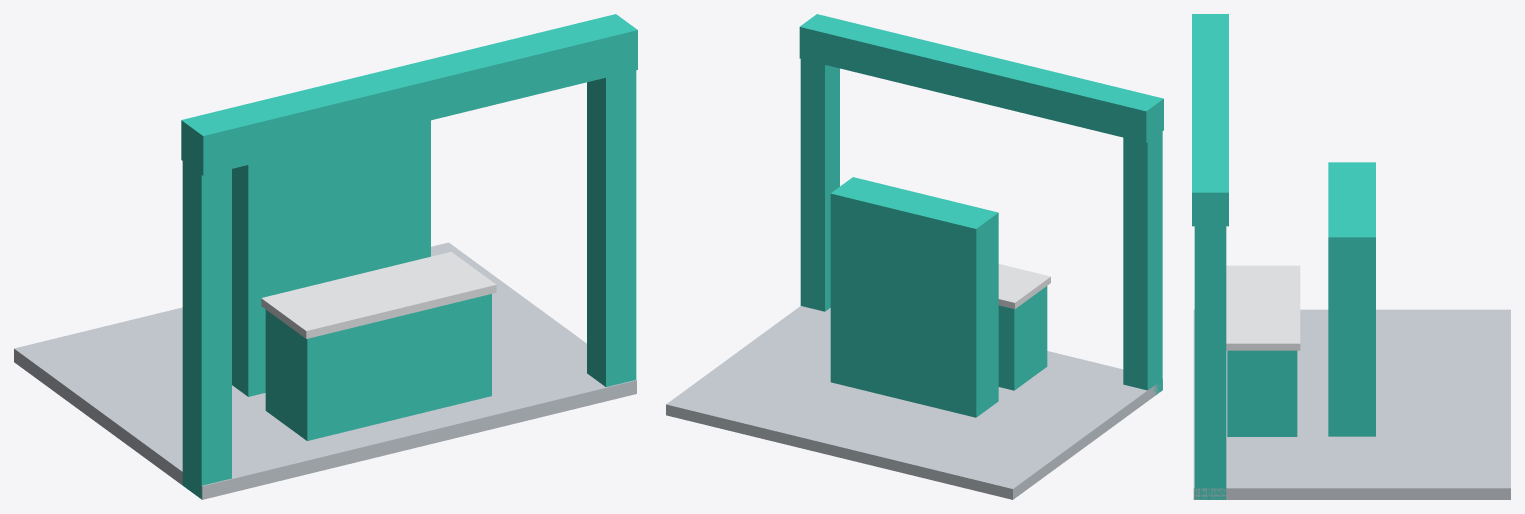
3 views of the same model, side by side, from view 1: azimuth 30°, elevation 25°; view 2: azimuth 150°, elevation 25°; view 3: azimuth 270°, elevation 25° (orthographic). The views are drawn at different scales.
Visible parts, largest first — view 1: Exhibition Booth Concept; view 2: Exhibition Booth Concept; view 3: Exhibition Booth Concept.
Part boxes in pixels (bbox=[...]): Exhibition Booth Concept: bbox=[14, 14, 637, 499]; Exhibition Booth Concept: bbox=[666, 14, 1163, 499]; Exhibition Booth Concept: bbox=[1192, 14, 1510, 499].
Size of the model in its own units: 4 by 3.2 by 3.01.
